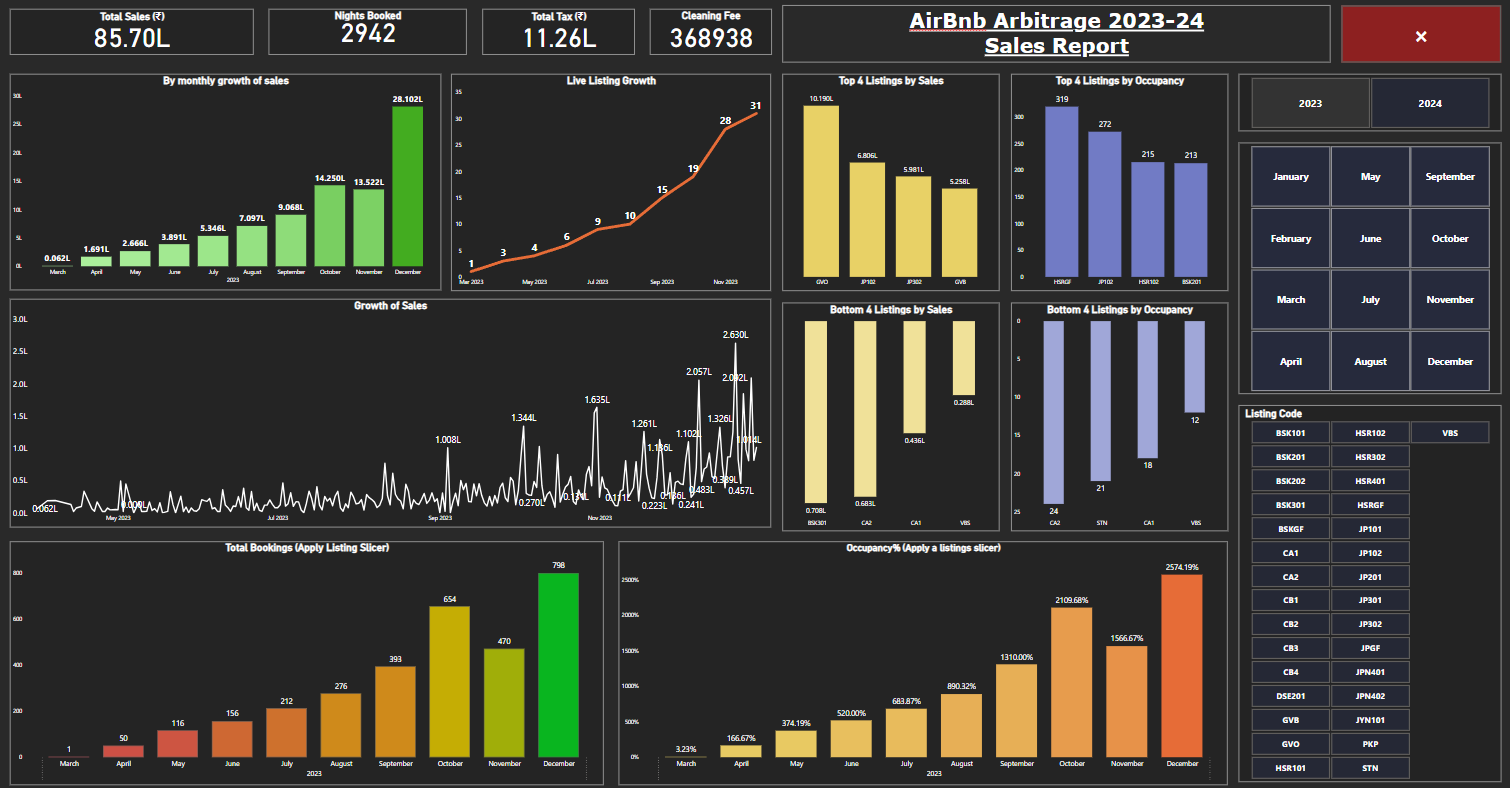

The page's visual inventory and layout, read from the dashboard file:
{"tool":"powerbi","page":{"name":"Nook&Co. AirBnb Dashboard","canvas":[3200,1700],"ordinal":0},"visuals":[{"type":"kpi","title":"Total Sales (₹)","fields":{"TrendLine":["AirBnbBookingSheet.Start Date.Variation.Date Hierarchy.Year"],"Indicator":["AirBnbBookingSheet.TotalSalesInLakh"]},"box":[32,32,512,96],"z":0},{"type":"kpi","title":"Total Tax (₹)","fields":{"TrendLine":["AirBnbBookingSheet.Start Date.Variation.Date Hierarchy.Year"],"Indicator":["AirBnbBookingSheet.TaxInLack"]},"box":[1024,32,320,96],"z":1000},{"type":"slicer","fields":{"Values":["AirBnbBookingSheet.Start Date.Variation.Date Hierarchy.Month"]},"box":[2616,312,552,528],"z":2000},{"type":"slicer","fields":{"Values":["Sheet1 (2).Listing Code"]},"box":[2616,864,552,792],"z":3000},{"type":"lineChart","title":"Growth of Sales","fields":{"Category":["AirBnbBookingSheet.Start Date.Variation.Date Hierarchy.Year","AirBnbBookingSheet.Start Date.Variation.Date Hierarchy.Month","AirBnbBookingSheet.Start Date.Variation.Date Hierarchy.Day"],"Y":["AirBnbBookingSheet.TotalSalesInLacks"]},"box":[32,640,1600,480],"z":4000},{"type":"textbox","box":[1656,24,1152,120],"z":5000},{"type":"clusteredColumnChart","title":"Top 4 Listings by Sales","fields":{"Category":["Sheet1 (2).Listing Code"],"Y":["AirBnbBookingSheet.TotalSalesInLacks"]},"box":[1656,168,456,456],"z":6000},{"type":"columnChart","title":"Top 4 Listings by Occupancy","fields":{"Category":["Sheet1 (2).Listing Code"],"Y":["AirBnbBookingSheet.nights Booking Start+PreviousEnd"]},"box":[2136,168,456,456],"z":7000},{"type":"lineChart","title":"Live Listing Growth","fields":{"Y":["Count(AirBnbBookingSheet.Listing Code)"],"Category":["AirBnbBookingSheet.Start Date.Variation.Date Hierarchy.Year","AirBnbBookingSheet.Start Date.Variation.Date Hierarchy.Month"]},"box":[960,168,672,456],"z":8000},{"type":"columnChart","title":"By monthly growth of sales","fields":{"Category":["AirBnbBookingSheet.Start Date.Variation.Date Hierarchy.Year","AirBnbBookingSheet.Start Date.Variation.Date Hierarchy.Month"],"Y":["AirBnbBookingSheet.TotalSalesInLacks"]},"box":[31.5,168.2,906.8,454.7],"z":9000},{"type":"columnChart","title":"Bottom 4 Listings by Occupancy","fields":{"Category":["Sheet1 (2).Listing Code"],"Y":["AirBnbBookingSheet.nights Booking Start+PreviousEnd"]},"box":[2136,648,456,480],"z":10000},{"type":"clusteredColumnChart","title":"Bottom 4 Listings by Sales","fields":{"Category":["Sheet1 (2).Listing Code"],"Y":["AirBnbBookingSheet.TotalSalesInLacks"]},"box":[1656,648,456,480],"z":11000},{"type":"kpi","title":"Cleaning Fee","fields":{"TrendLine":["AirBnbBookingSheet.Start Date.Variation.Date Hierarchy.Year"],"Indicator":["AirBnbBookingSheet.CleaningFee_reservation"]},"box":[1376,32,256,96],"z":12000},{"type":"slicer","fields":{"Values":["AirBnbBookingSheet.Start Date.Variation.Date Hierarchy.Year"]},"box":[2616,168,552,120],"z":13000},{"type":"actionButton","box":[2830.7,23.7,336.4,120.9],"z":14000},{"type":"clusteredColumnChart","title":"Occupancy% (Apply a listings slicer)","fields":{"Category":["AirBnbBookingSheet.Start Date.Variation.Date Hierarchy.Year","AirBnbBookingSheet.Start Date.Variation.Date Hierarchy.Month"],"Y":["AirBnbBookingSheet.Occupancy%"]},"box":[1312,1152,1280,512],"z":16000},{"type":"kpi","title":"Nights Booked","fields":{"TrendLine":["AirBnbBookingSheet.Start Date.Variation.Date Hierarchy.Year"],"Indicator":["AirBnbBookingSheet.TotalBookingsPerMonth"],"Goal":["AirBnbBookingSheet.nights Booking Start+PreviousEnd"]},"box":[576,32,416,96],"z":17000},{"type":"clusteredColumnChart","title":"Total Bookings (Apply Listing Slicer)","fields":{"Category":["AirBnbBookingSheet.Start Date.Variation.Date Hierarchy.Year","AirBnbBookingSheet.Start Date.Variation.Date Hierarchy.Month"],"Y":["AirBnbBookingSheet.Booking Start+PreviousEnd"]},"box":[32,1152,1248,512],"z":19000}]}

Visuals, with their boxes in screenshot pixels (x1, y1, x2, y2), scaled from the page's 3200x1700 canvas onto the 1510x788 screenshot:
"Total Sales (₹)" kpi: [x1=15, y1=15, x2=257, y2=59]
"Total Tax (₹)" kpi: [x1=483, y1=15, x2=634, y2=59]
slicer - AirBnbBookingSheet.Start Date.Variation.Date Hierarchy.Month: [x1=1234, y1=145, x2=1495, y2=389]
slicer - Sheet1 (2).Listing Code: [x1=1234, y1=400, x2=1495, y2=768]
"Growth of Sales" lineChart: [x1=15, y1=297, x2=770, y2=519]
textbox: [x1=781, y1=11, x2=1325, y2=67]
"Top 4 Listings by Sales" clusteredColumnChart: [x1=781, y1=78, x2=997, y2=289]
"Top 4 Listings by Occupancy" columnChart: [x1=1008, y1=78, x2=1223, y2=289]
"Live Listing Growth" lineChart: [x1=453, y1=78, x2=770, y2=289]
"By monthly growth of sales" columnChart: [x1=15, y1=78, x2=443, y2=289]
"Bottom 4 Listings by Occupancy" columnChart: [x1=1008, y1=300, x2=1223, y2=523]
"Bottom 4 Listings by Sales" clusteredColumnChart: [x1=781, y1=300, x2=997, y2=523]
"Cleaning Fee" kpi: [x1=649, y1=15, x2=770, y2=59]
slicer - AirBnbBookingSheet.Start Date.Variation.Date Hierarchy.Year: [x1=1234, y1=78, x2=1495, y2=133]
actionButton: [x1=1336, y1=11, x2=1494, y2=67]
"Occupancy% (Apply a listings slicer)" clusteredColumnChart: [x1=619, y1=534, x2=1223, y2=771]
"Nights Booked" kpi: [x1=272, y1=15, x2=468, y2=59]
"Total Bookings (Apply Listing Slicer)" clusteredColumnChart: [x1=15, y1=534, x2=604, y2=771]
